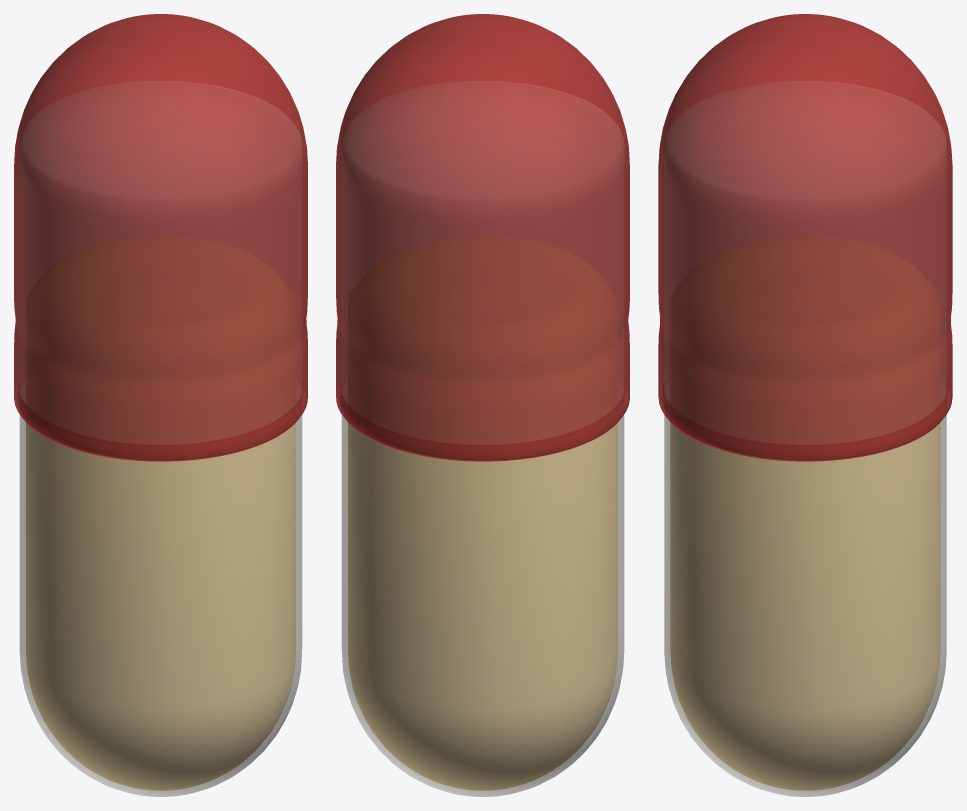
The picture shows the model from 3 angles, left to right: view 1: azimuth 30°, elevation 25°; view 2: azimuth 150°, elevation 25°; view 3: azimuth 270°, elevation 25°; orthographic projection.
Parts seen in each view (by area): view 1: Capsula_Corpo, Capsula_Testa, Capsula_Polvere; view 2: Capsula_Corpo, Capsula_Testa, Capsula_Polvere; view 3: Capsula_Corpo, Capsula_Testa, Capsula_Polvere.
Boxes of the visible parts, x1,y1,x2,y2 form: Capsula_Corpo: (19,81,302,796); Capsula_Testa: (14,14,307,461); Capsula_Polvere: (26,423,295,790); Capsula_Corpo: (341,81,624,796); Capsula_Testa: (336,14,629,461); Capsula_Polvere: (348,423,617,790); Capsula_Corpo: (664,81,946,796); Capsula_Testa: (658,14,952,461); Capsula_Polvere: (670,423,940,790).
Bounding box in the file's own units: 0.00764 × 0.0217 × 0.00764.
